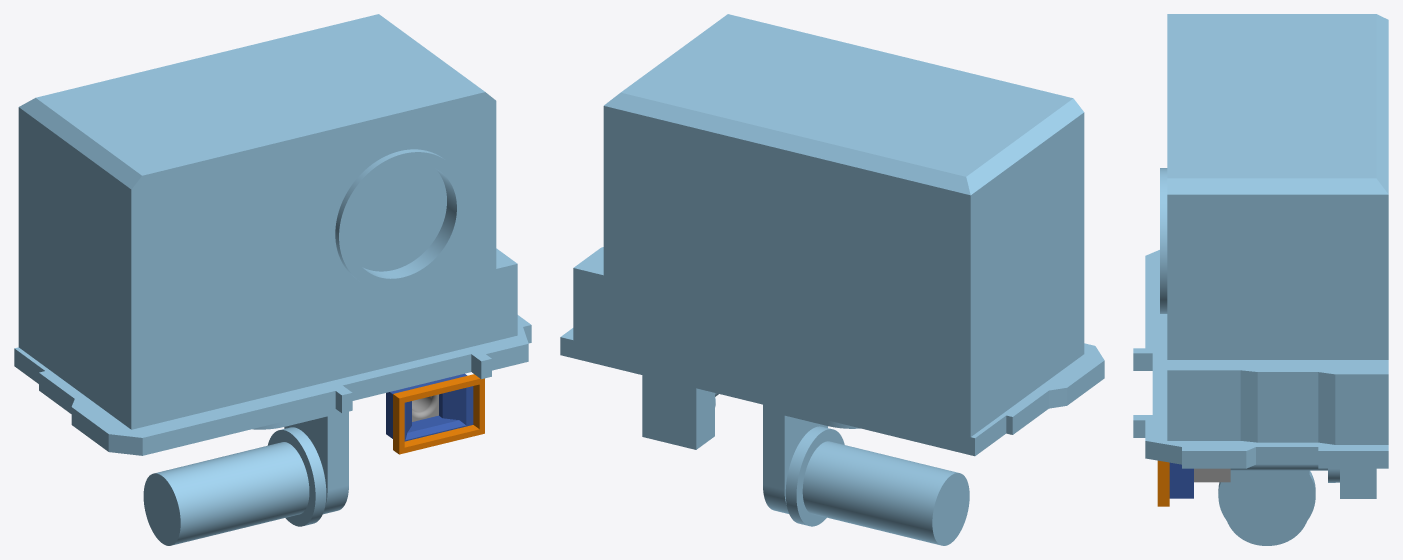
The model's file is sensor_housing.dae.
3 views of the same model, side by side, from view 1: azimuth 30°, elevation 25°; view 2: azimuth 150°, elevation 25°; view 3: azimuth 270°, elevation 25° (orthographic). The views are drawn at different scales.
Visible parts, largest first — view 1: 62538d5944e322411fe3af23 (×3); view 2: 62538d5944e322411fe3af23; view 3: 62538d5944e322411fe3af23 (×4).
Part boxes in pixels (box(x1,y1,x2,y2)): 62538d5944e322411fe3af23 (×3): box(14, 14, 531, 545); 62538d5944e322411fe3af23: box(560, 14, 1104, 545); 62538d5944e322411fe3af23 (×4): box(1133, 14, 1388, 545).
Size of the model in its own units: 0.2 by 0.105 by 0.193.
